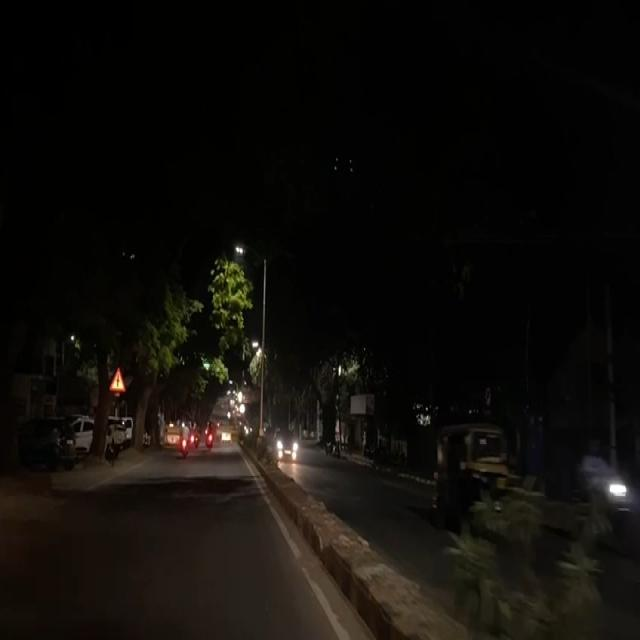bien_cam: (108, 364, 127, 395)
